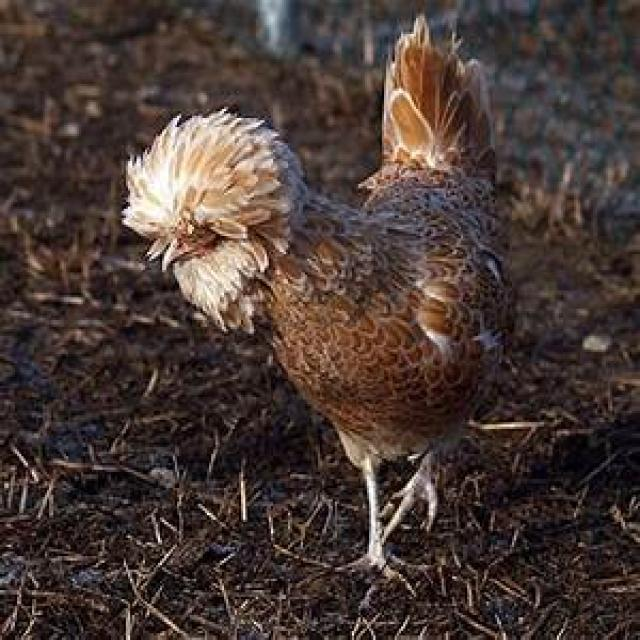animal: (118, 11, 516, 581)
